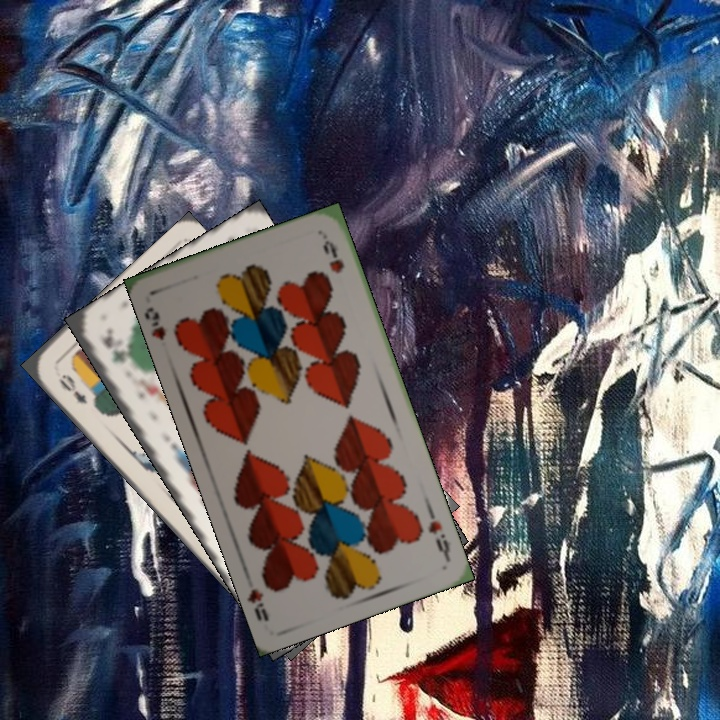EO: (54, 370, 90, 407)
GK: (97, 324, 129, 366)
H9: (424, 516, 453, 561), (142, 302, 169, 343)
